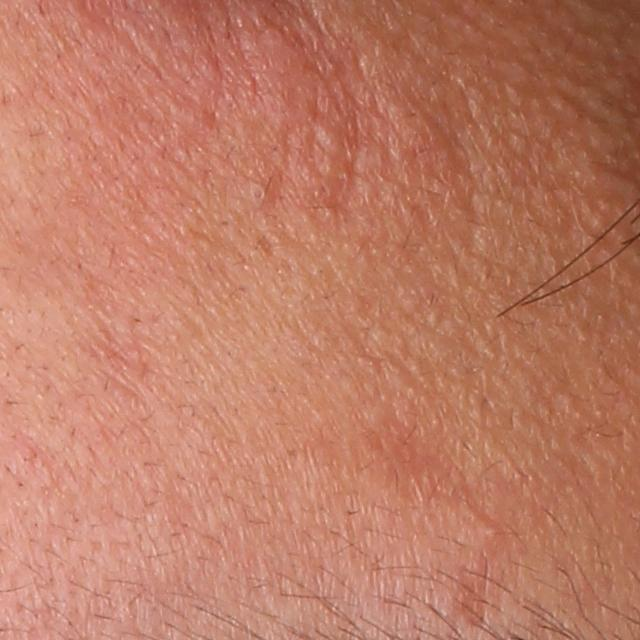comedo: (474, 518, 496, 543), (240, 185, 267, 205)
